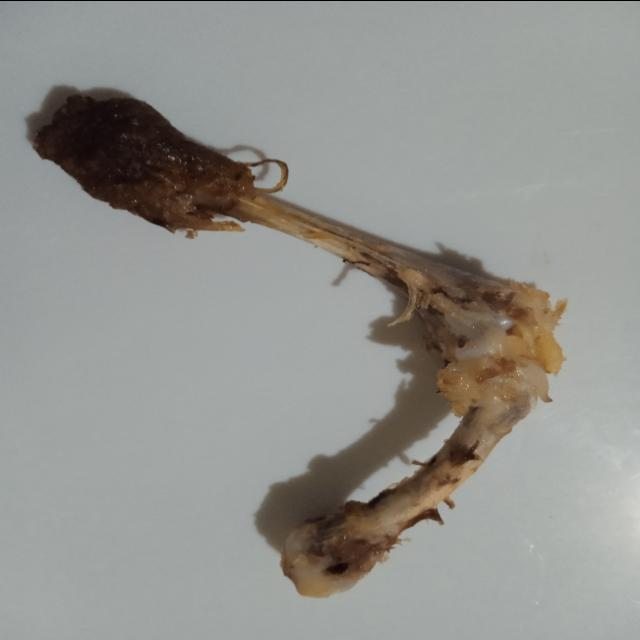bone: (11, 79, 584, 607)
